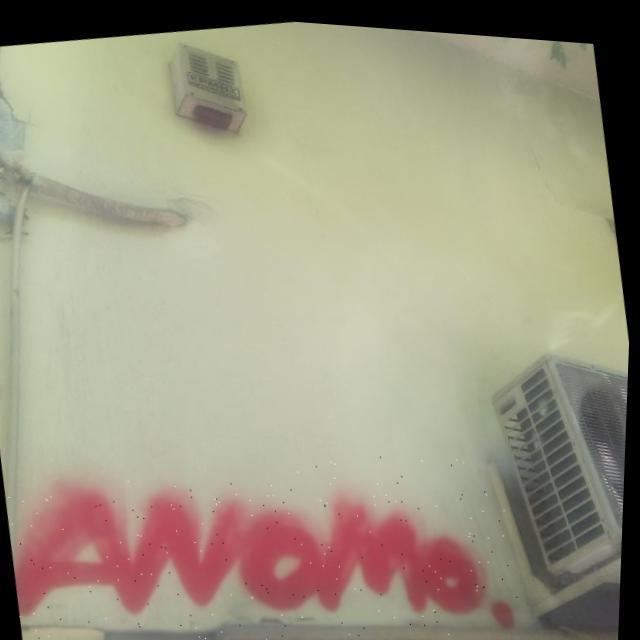-: (3, 409, 530, 640)
